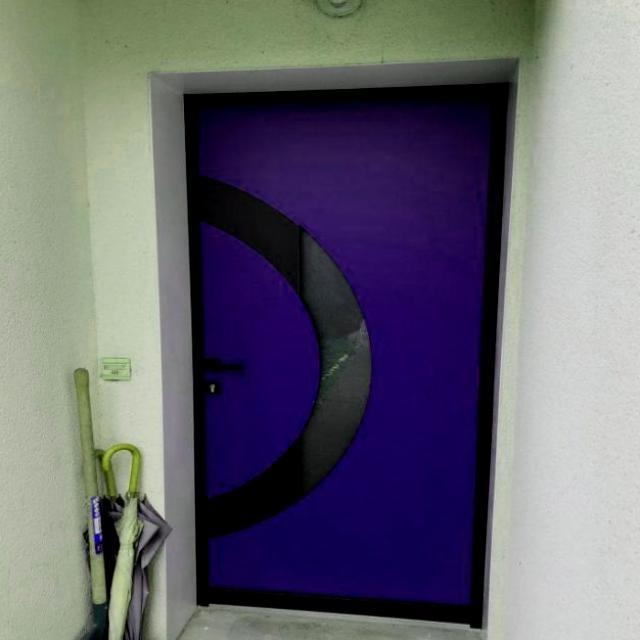door: (168, 67, 512, 629)
